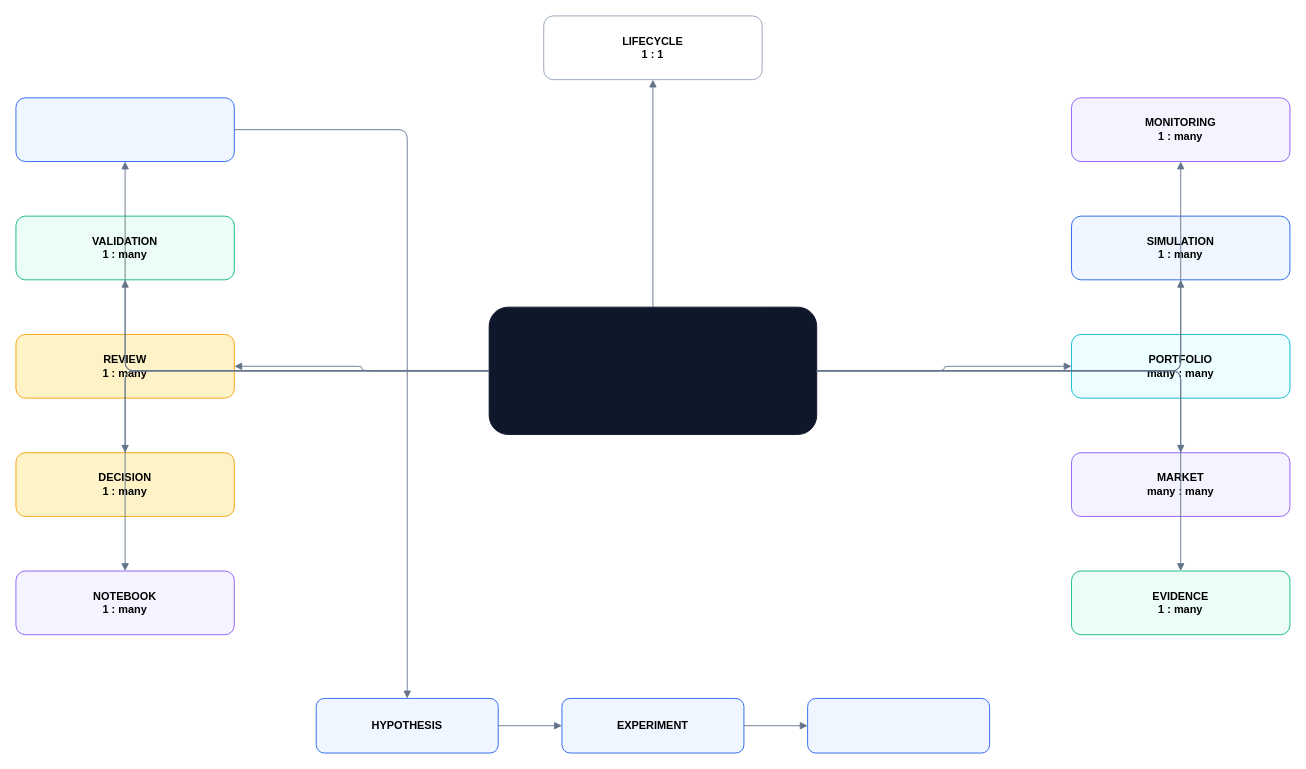
This 1306x769 diagram has some shape labels left out. The shapes that lost their labels are listed below. From the top down, each one's centre as x and y in pixels, then its label:
At pixel 124 129: "RESEARCH 1 : many".
At pixel 652 370: "STRATEGY Aggregate Center".
At pixel 898 725: "BACKTEST".
